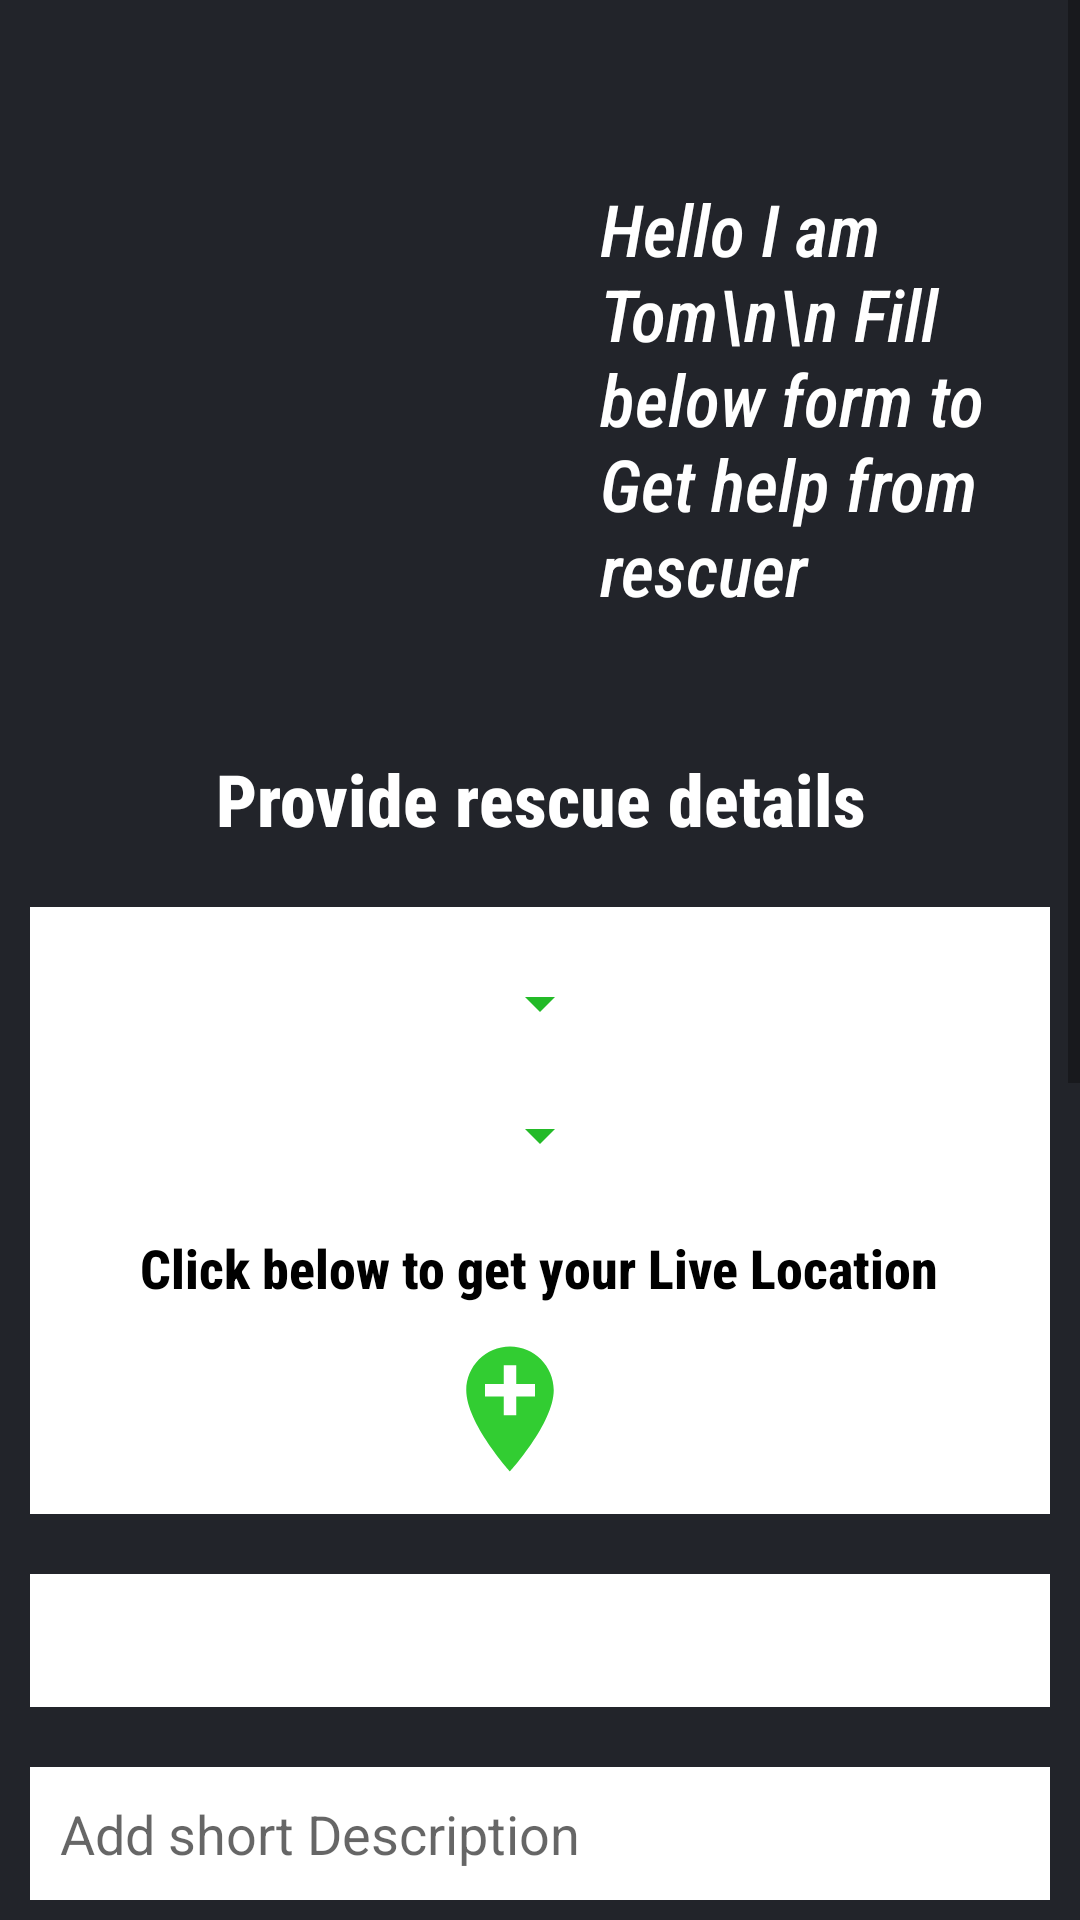

Icons on this 1080w x 1920h Android screen, each with the point to tap as (x=x, y=y):
add location: (x=510, y=1409)
